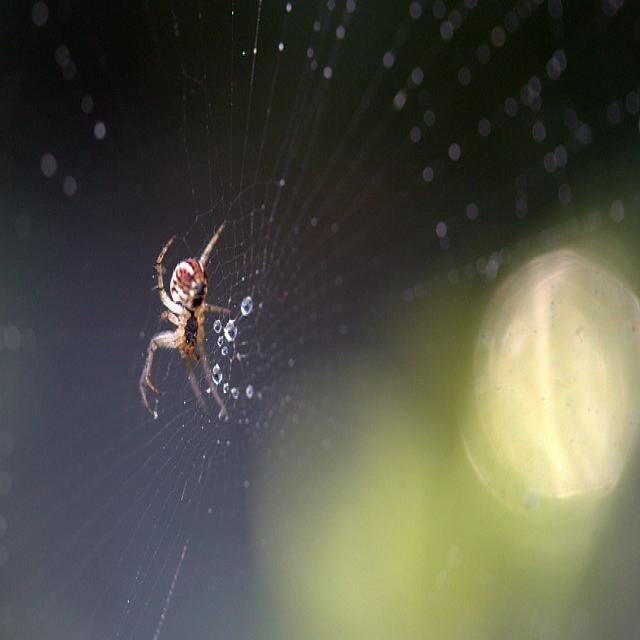spyder: (140, 219, 226, 419)
